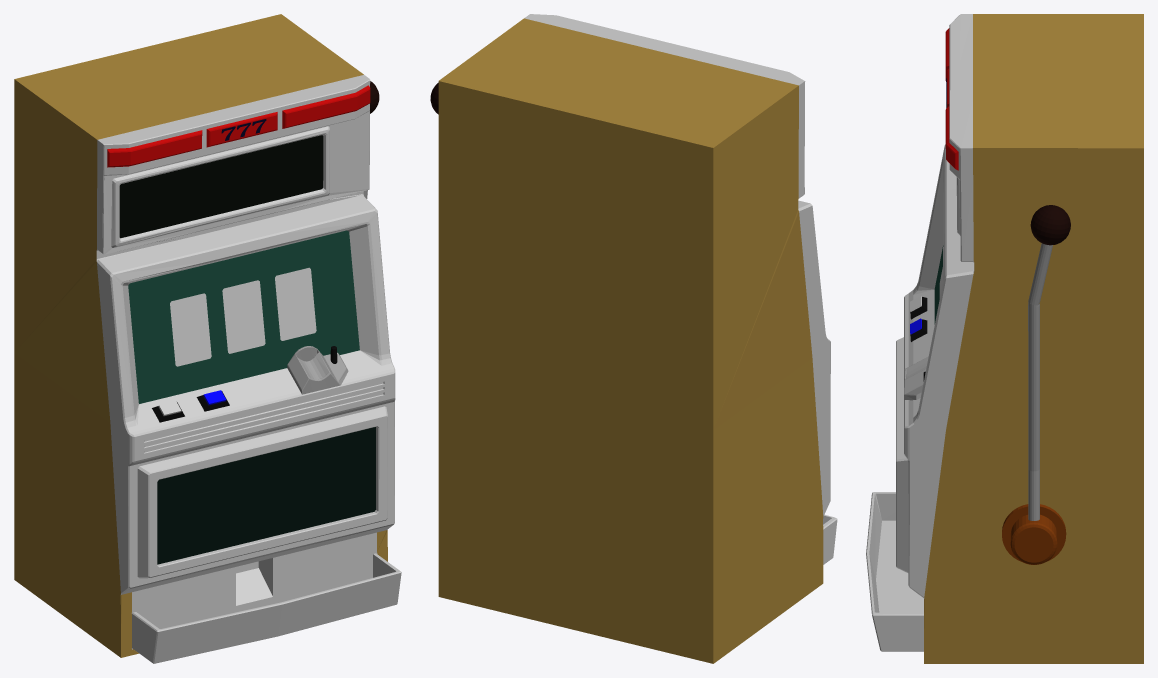
Rendered from slot_machine.obj.
The picture shows the model from 3 angles, left to right: view 1: azimuth 30°, elevation 25°; view 2: azimuth 150°, elevation 25°; view 3: azimuth 270°, elevation 25°; orthographic projection. The views are drawn at different scales.
Visible parts, largest first — view 1: chrome, wood, plate2, plate1, plate3, clear, light, coindrop; view 2: wood, chrome; view 3: wood, chrome, handle, pivot, knob, light, coindrop.
Part boxes in pixels (x1=…): chrome: x1=96, y1=75, x2=401, y2=663; wood: x1=14, y1=14, x2=387, y2=657; plate2: x1=128, y1=230, x2=359, y2=403; plate1: x1=157, y1=427, x2=375, y2=564; plate3: x1=119, y1=135, x2=323, y2=238; clear: x1=170, y1=267, x2=316, y2=366; light: x1=107, y1=85, x2=370, y2=167; coindrop: x1=287, y1=346, x2=348, y2=394; wood: x1=438, y1=18, x2=823, y2=663; chrome: x1=524, y1=14, x2=837, y2=564; wood: x1=924, y1=14, x2=1143, y2=663; chrome: x1=866, y1=14, x2=974, y2=651; handle: x1=1028, y1=243, x2=1052, y2=520; pivot: x1=1002, y1=504, x2=1066, y2=564; knob: x1=1030, y1=205, x2=1070, y2=245; light: x1=945, y1=28, x2=958, y2=170; coindrop: x1=904, y1=356, x2=928, y2=400.
Size of the model in its own units: 14.06 by 21.17 by 10.34.
